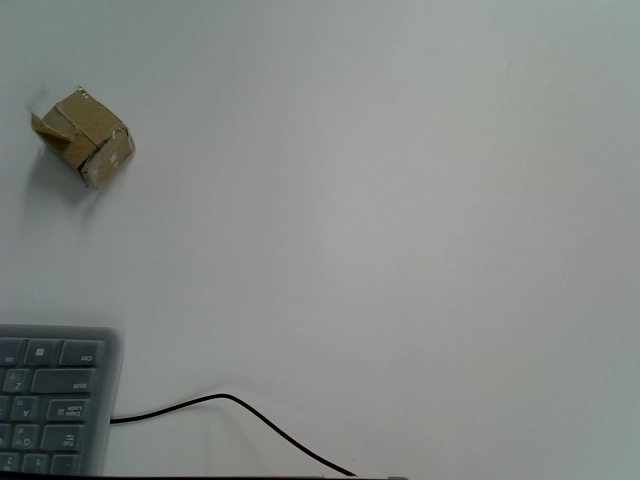defect: (25, 84, 135, 191)
